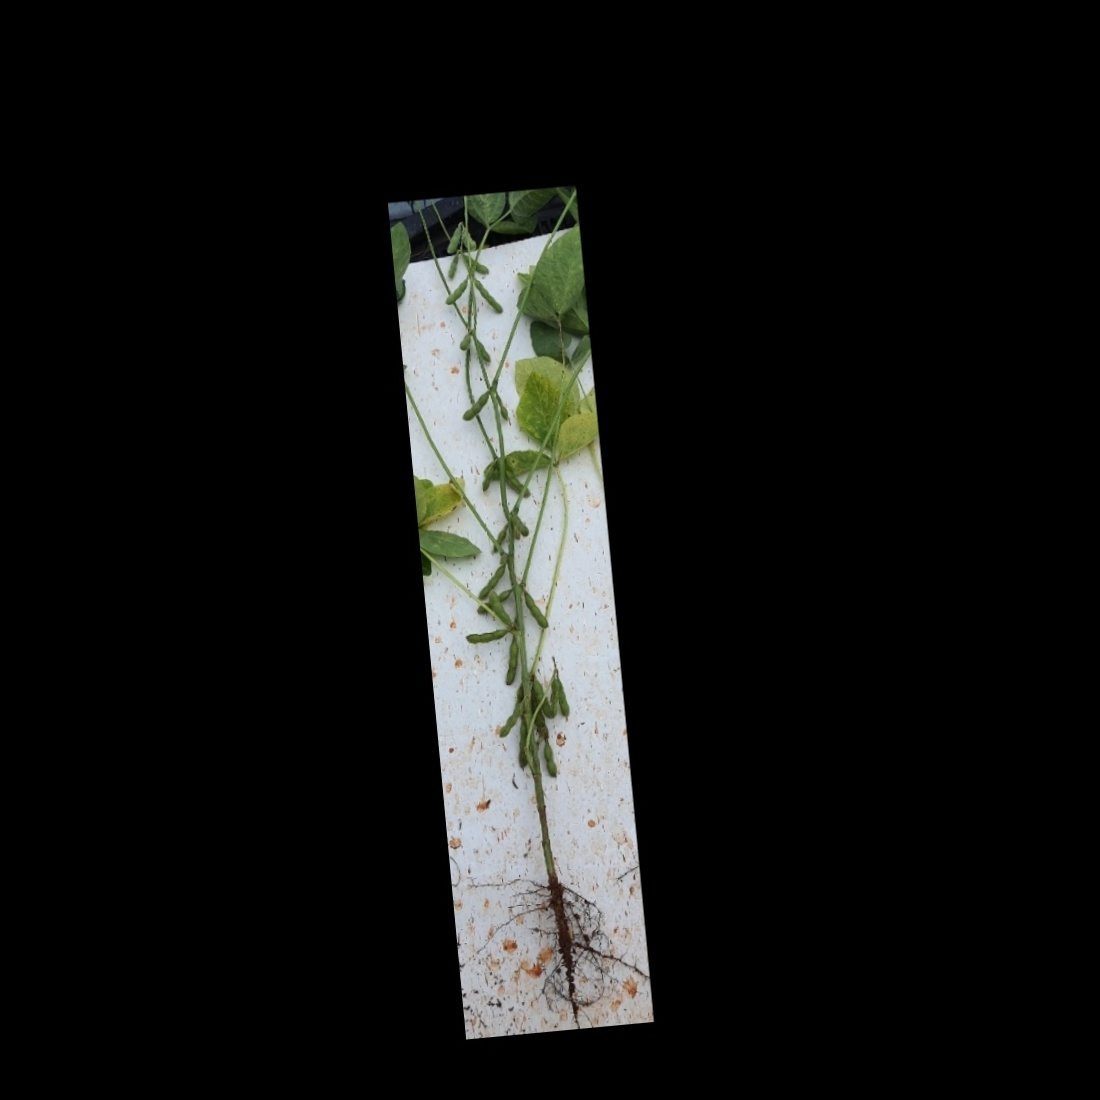pod: (472, 562, 508, 600), (472, 275, 505, 316), (521, 585, 550, 631), (499, 638, 524, 688), (528, 674, 554, 722), (458, 389, 495, 423), (495, 702, 527, 740), (488, 590, 517, 632), (501, 466, 532, 500), (463, 625, 512, 646), (553, 677, 573, 720), (514, 720, 531, 771), (441, 278, 470, 307), (525, 689, 546, 728), (541, 738, 559, 779), (488, 523, 509, 555), (462, 253, 491, 276), (442, 223, 462, 255), (547, 676, 562, 718), (493, 391, 510, 424), (478, 463, 498, 493), (474, 337, 492, 366), (444, 255, 462, 279), (457, 331, 472, 351)
soy: (396, 200, 632, 995)
